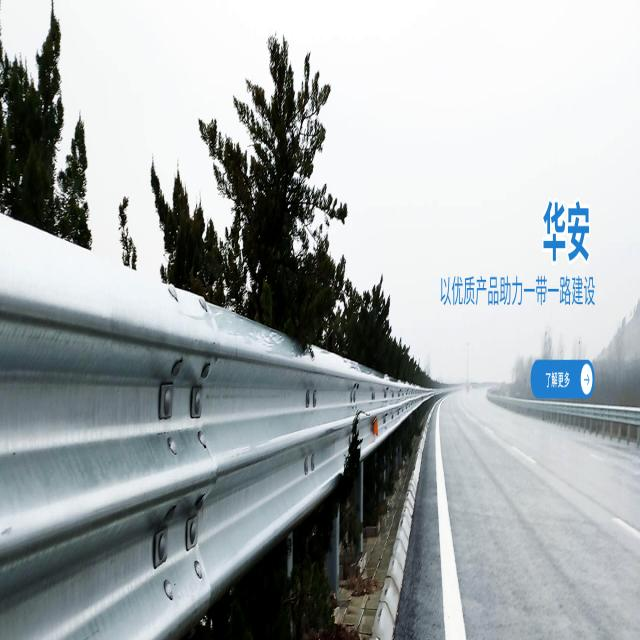Guard rail: (0, 215, 429, 637)
